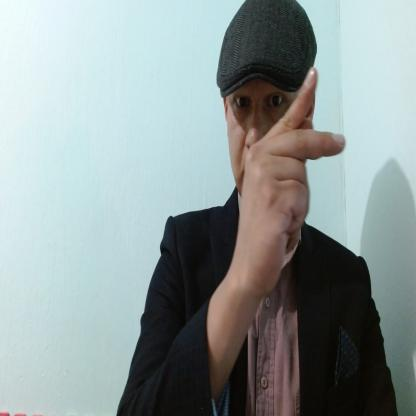P: (231, 67, 347, 292)
